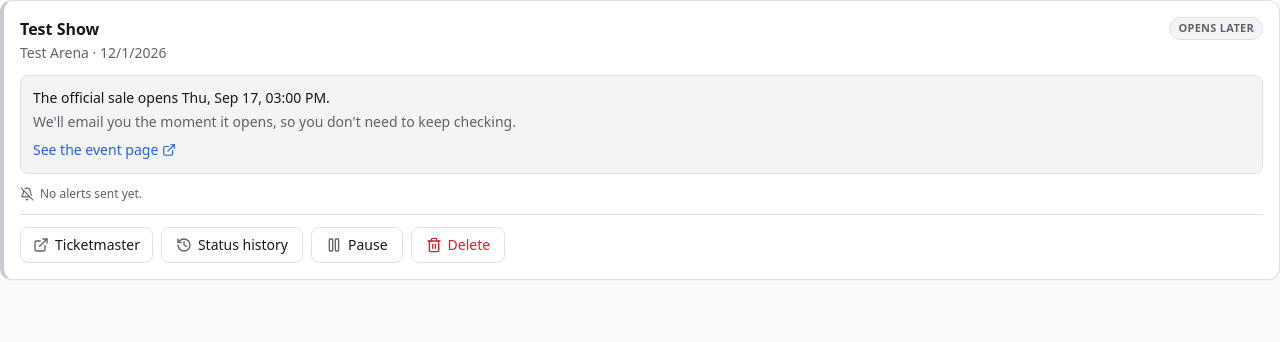
Test case: WatchCard — status history › shows an explanation rather than a blank panel when there is no history
This screenshot has width=1280, height=342.
Click the button "Status history" at (232, 245), box [161,227,303,263]
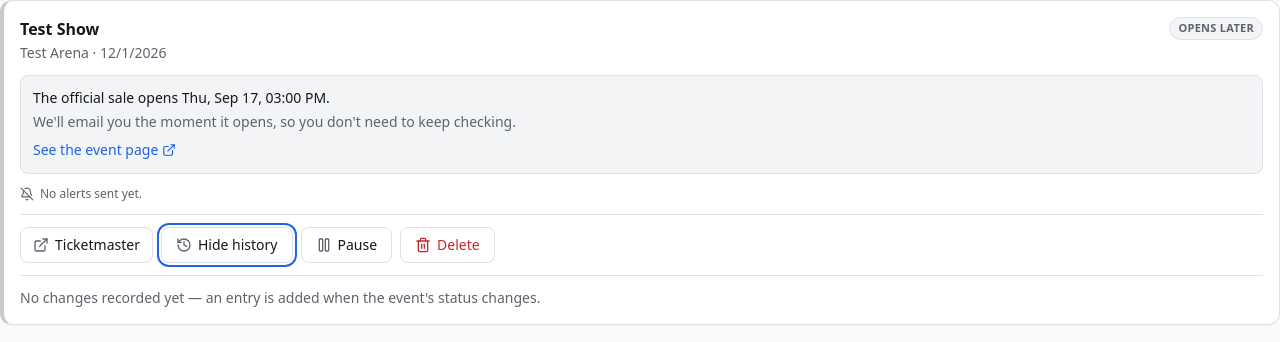
Expected: the text "No changes recorded yet" is shown, [20,288,540,307]
